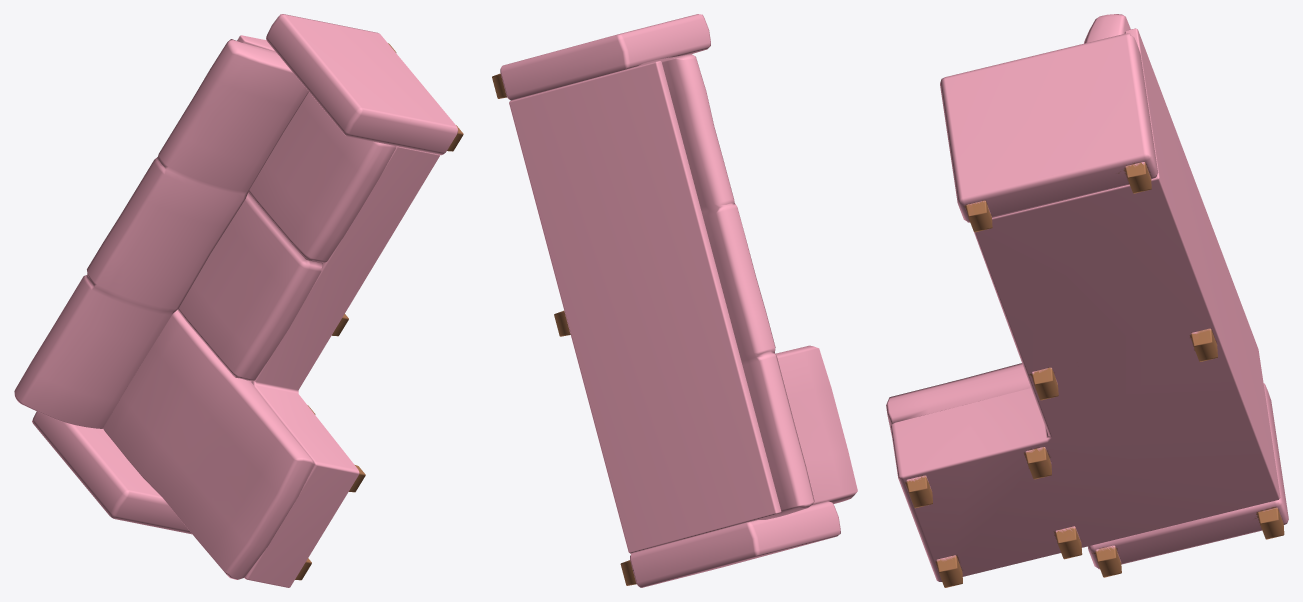
File: couch.glb
The picture shows the model from 3 angles, left to right: view 1: azimuth 30°, elevation 25°; view 2: azimuth 150°, elevation 25°; view 3: azimuth 270°, elevation 25°; orthographic projection. The views are drawn at different scales.
Bounding box in the file's own units: 0.7763 × 1.09 × 0.6763.
1 material, 1 textured.
